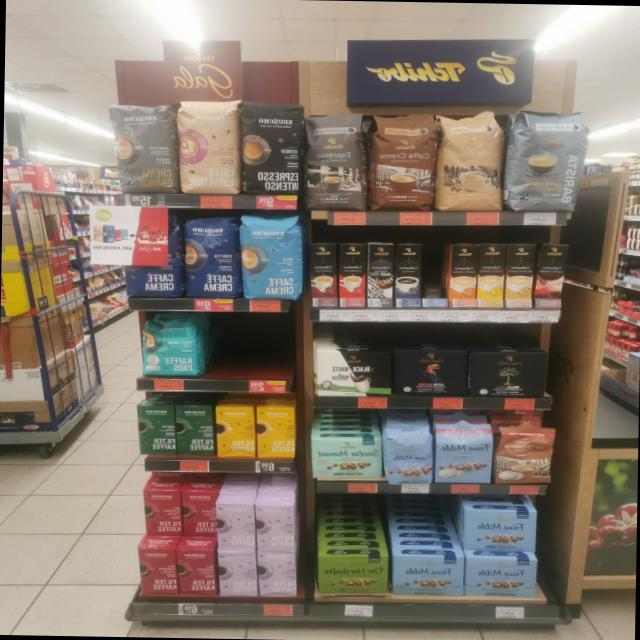BM Gemahlen: (468, 350, 548, 398)
BW Gemahlen: (312, 348, 392, 396)
Barista CC: (508, 107, 588, 213)
CC Mild: (438, 108, 504, 212)
CC Vollmundig: (494, 425, 556, 485)
CC Vollmundig 36 Pads: (368, 111, 437, 211)
Empty Shelf: (422, 242, 451, 298)
Espresso Aromatisch: (304, 110, 366, 210)
FM 36 Pads: (432, 421, 493, 485)
FM Bohne: (382, 428, 432, 484)
FM Gemahlen: (462, 508, 538, 551), (463, 556, 538, 598), (391, 554, 464, 596)
Herzhatfe Mundig: (316, 554, 389, 596)
LG Gemahlen: (392, 347, 467, 397)
SM Gemahlen: (309, 436, 382, 478)
Simo CC Colombia: (533, 243, 569, 307)
Simo CCMild bigpack: (478, 242, 506, 308)
Simo CCVollmundig bigpack: (449, 245, 478, 308)
Simo Decaff: (505, 243, 535, 307)
Simo Es Brazil: (338, 242, 366, 307)
Simo Es Caramel: (309, 243, 336, 307)
Simo Es Elegant: (368, 242, 394, 308)
Simo Es Kraft: (394, 243, 422, 307)
